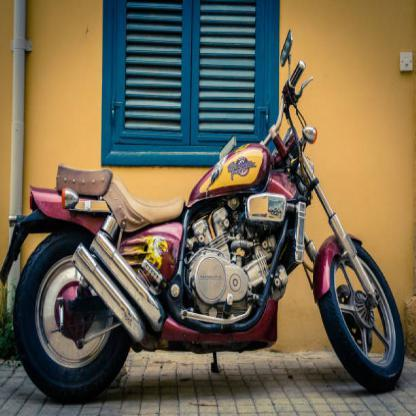Motorcycle: (2, 17, 409, 404)
